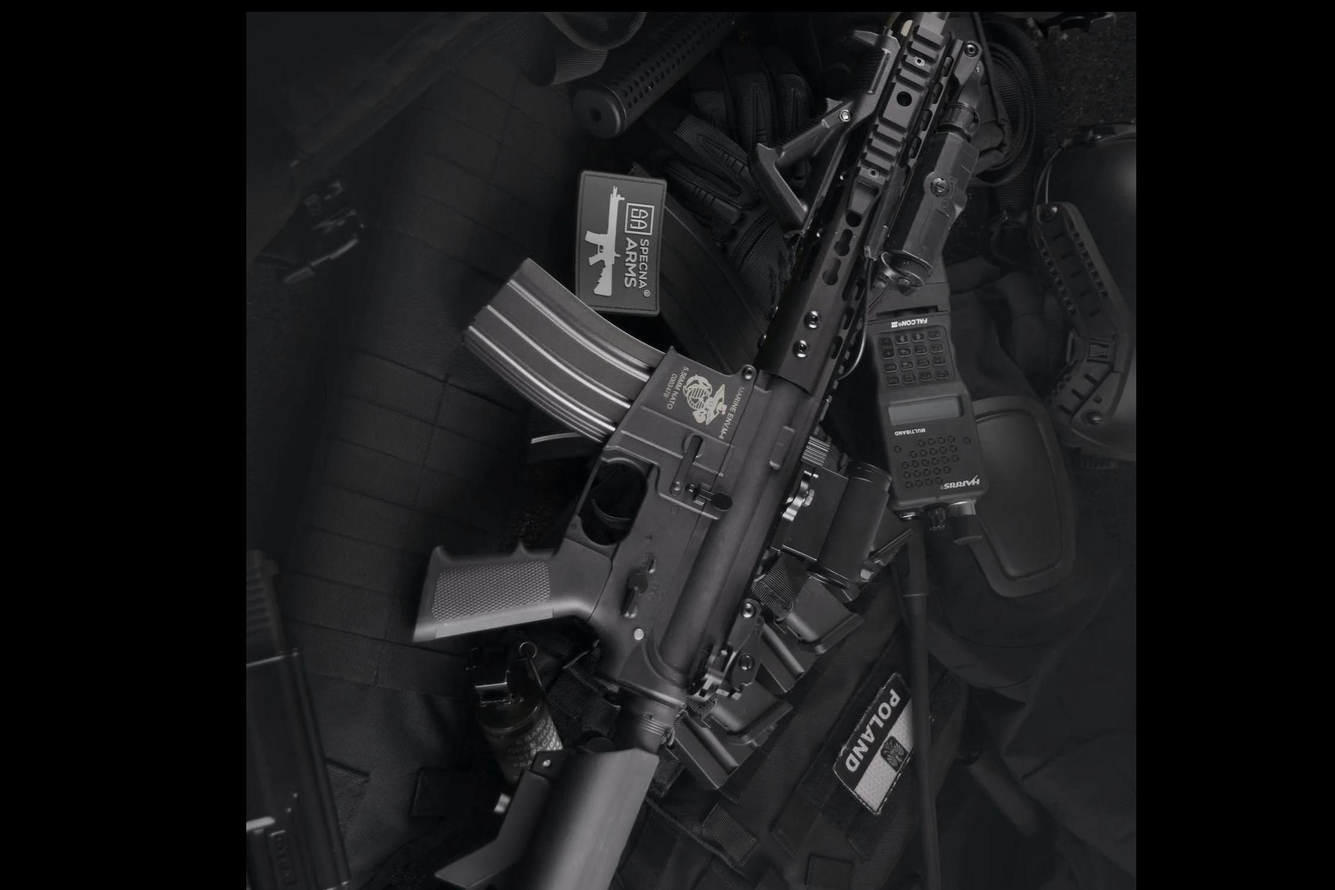larga: (406, 10, 993, 890)
